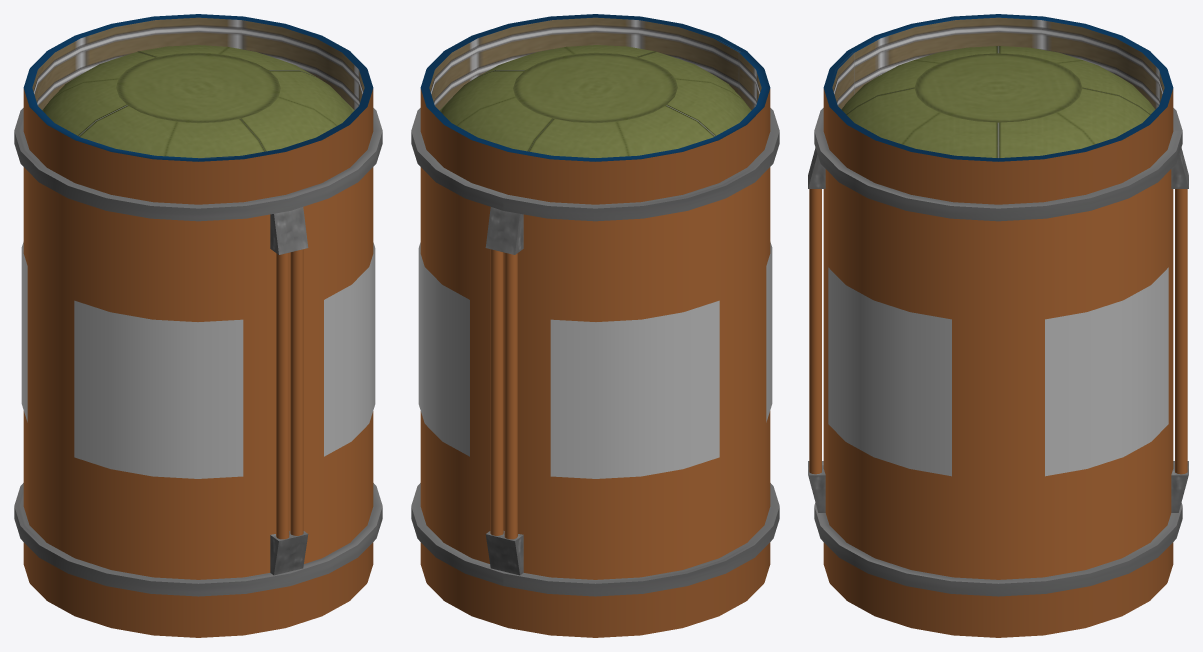
File: FLM-7200M.FBX
The picture shows the model from 3 angles, left to right: view 1: azimuth 30°, elevation 25°; view 2: azimuth 150°, elevation 25°; view 3: azimuth 270°, elevation 25°; orthographic projection.
Visible parts, largest first — view 1: TankBody, TankSleeve001, decalPanel004, EndCap001, TankSleeve002, decalPanel001, BarrelBand003, BarrelBand002, FuelPipe001, FuelPipe002, FuelPlug001, FuelPlug002 (+1 smaller); view 2: TankBody, TankSleeve001, decalPanel003, EndCap001, TankSleeve002, decalPanel002, BarrelBand003, BarrelBand002, FuelPipe003, FuelPipe004, FuelPlug003, FuelPlug004 (+1 smaller); view 3: TankBody, TankSleeve001, EndCap001, decalPanel001, decalPanel002, TankSleeve002, BarrelBand003, BarrelBand002, FuelPipe002, FuelPipe004, FuelPlug002, FuelPlug004.
Part boxes in pixels (left/top/right/bottom): TankBody: left=23, top=167, right=373, bottom=579; TankSleeve001: left=23, top=14, right=373, bottom=204; decalPanel004: left=74, top=300, right=243, bottom=478; EndCap001: left=42, top=45, right=354, bottom=157; TankSleeve002: left=23, top=542, right=373, bottom=637; decalPanel001: left=324, top=242, right=375, bottom=456; BarrelBand003: left=14, top=108, right=382, bottom=221; BarrelBand002: left=14, top=483, right=382, bottom=596; FuelPipe001: left=276, top=253, right=289, bottom=539; FuelPipe002: left=290, top=249, right=303, bottom=535; FuelPlug001: left=270, top=207, right=308, bottom=254; FuelPlug002: left=270, top=531, right=308, bottom=575; TankBody: left=420, top=167, right=770, bottom=579; TankSleeve001: left=420, top=14, right=770, bottom=204; decalPanel003: left=550, top=300, right=719, bottom=478; EndCap001: left=439, top=45, right=751, bottom=157; TankSleeve002: left=420, top=542, right=770, bottom=637; decalPanel002: left=418, top=242, right=469, bottom=456; BarrelBand003: left=411, top=108, right=779, bottom=221; BarrelBand002: left=411, top=483, right=779, bottom=596; FuelPipe003: left=504, top=253, right=517, bottom=539; FuelPipe004: left=490, top=249, right=503, bottom=535; FuelPlug003: left=485, top=207, right=523, bottom=254; FuelPlug004: left=485, top=531, right=523, bottom=575; TankBody: left=823, top=169, right=1173, bottom=579; TankSleeve001: left=823, top=14, right=1173, bottom=204; EndCap001: left=841, top=46, right=1155, bottom=157; decalPanel001: left=828, top=267, right=951, bottom=476; decalPanel002: left=1045, top=267, right=1168, bottom=476; TankSleeve002: left=823, top=542, right=1173, bottom=637; BarrelBand003: left=814, top=108, right=1182, bottom=221; BarrelBand002: left=814, top=503, right=1182, bottom=596; FuelPipe002: left=809, top=189, right=821, bottom=474; FuelPipe004: left=1175, top=189, right=1187, bottom=474; FuelPlug002: left=808, top=461, right=825, bottom=512; FuelPlug004: left=1171, top=461, right=1188, bottom=512.
Size of what is drawn, in the model's own units: 2.63 by 2.72 by 3.75.
